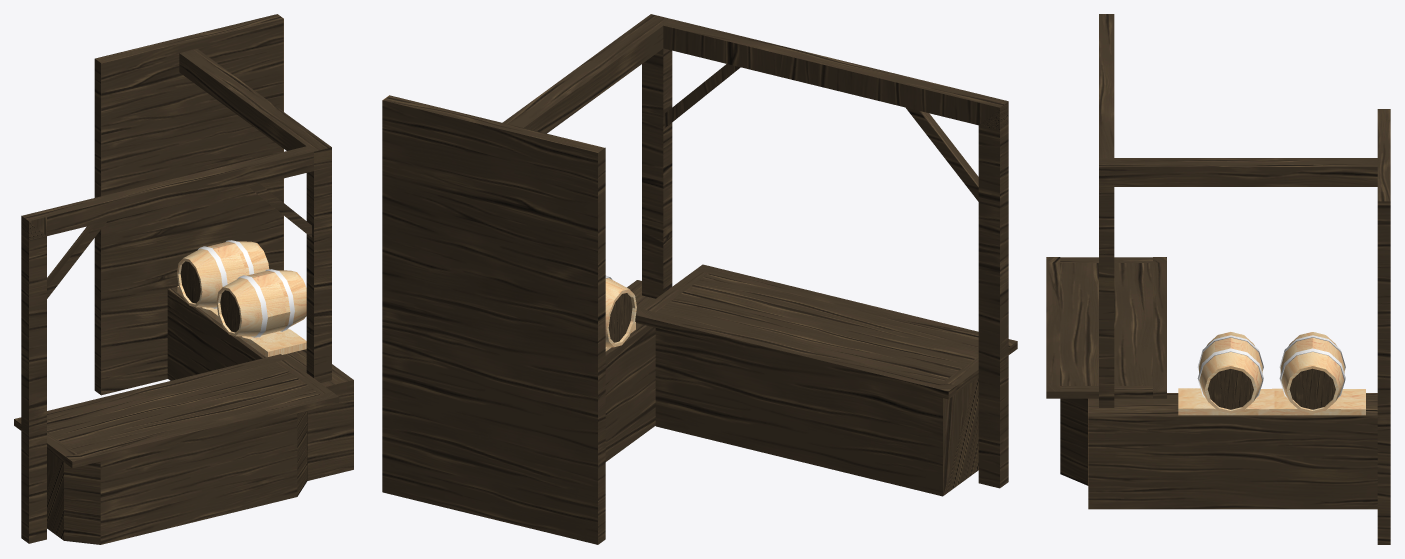
File: Final_Bar1.fbx
The picture shows the model from 3 angles, left to right: view 1: azimuth 30°, elevation 25°; view 2: azimuth 150°, elevation 25°; view 3: azimuth 270°, elevation 25°; orthographic projection. The views are drawn at different scales.
Parts seen in each view (by area): view 1: Barrel:Barrel1; view 2: Barrel:Barrel1; view 3: Barrel:Barrel1.
Boxes of the visible parts, x1,y1,x2,y2 form: Barrel:Barrel1: (14, 14, 353, 544); Barrel:Barrel1: (382, 14, 1017, 544); Barrel:Barrel1: (1046, 14, 1390, 544).
Size of the model in its own units: 5.01 by 4.08 by 3.71.
4 materials, 3 textured.
